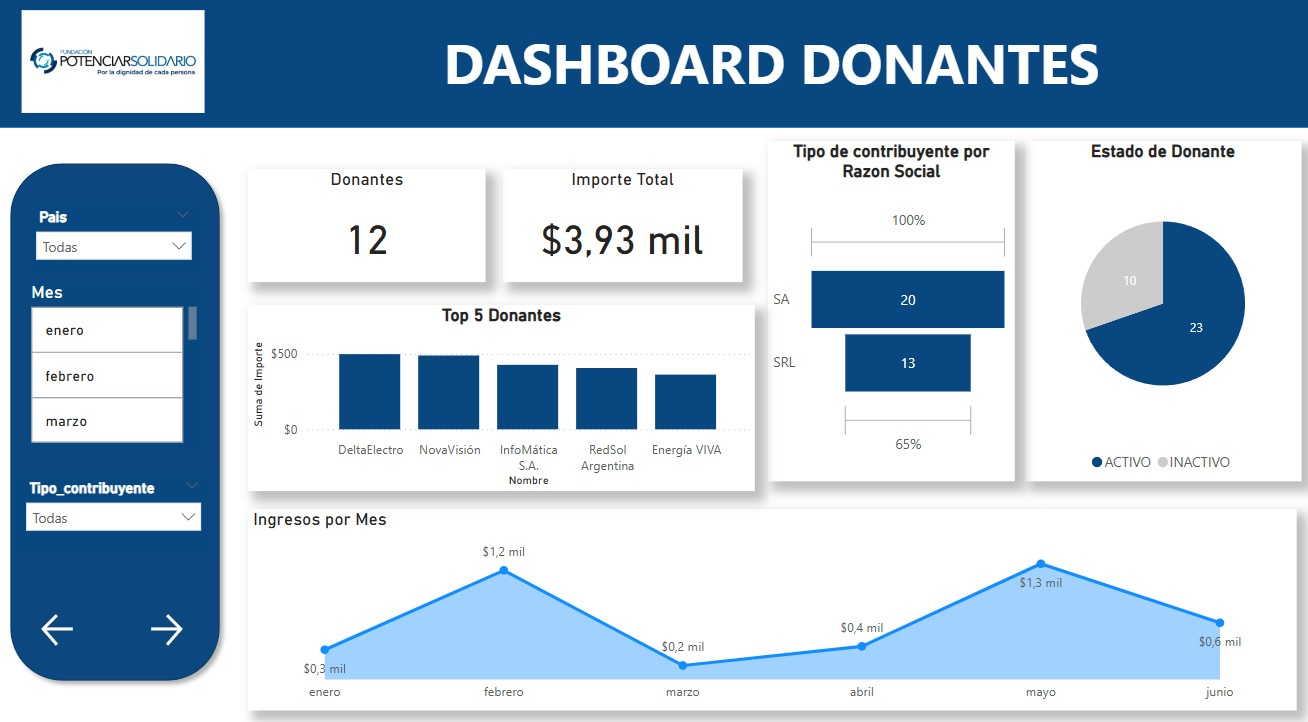

Layout of this report page (visuals, bound fields, positions):
{"tool":"powerbi","page":{"name":"Ingresos","canvas":[1280,720],"ordinal":1},"visuals":[{"type":"pieChart","title":"Estado de Donante","fields":{"Y":["fundacionbd donantes.Id_Estado"],"Category":["fundacionbd estadodonante.Estado_donante"]},"box":[998.6,141.4,268.6,331.4],"z":0},{"type":"cardVisual","title":"Importe Total","fields":{"Data":["fundacionbd ingreso.Importe"]},"box":[491.4,168.6,232.9,110],"z":1000},{"type":"cardVisual","title":"Donantes","fields":{"Data":["fundacionbd ingreso.Id_Donante"]},"box":[242.9,168.6,231.4,110],"z":2000},{"type":"funnel","title":"Tipo de contribuyente por Razon Social","fields":{"Y":["fundacionbd donantes.Id_Tipo_Contribuyente"],"Category":["fundacionbd razonsocial.Razon_social"]},"box":[748.6,141.4,240,331.4],"z":3000},{"type":"lineChart","title":"Ingresos por Mes","fields":{"Category":["Tabla Calendario.Date.Variación.Jerarquía de fechas.Mes"],"Y":["fundacionbd ingreso.Importe"]},"box":[242.9,498.6,1020,195.7],"z":4000},{"type":"shape","box":[0,0,1280,128.4],"z":7000},{"type":"shape","box":[2.9,153.7,221.8,521.3],"z":8000},{"type":"image","box":[2.9,8.8,218.8,109.9],"z":9000},{"type":"textbox","box":[237.3,22.4,1030,82.7],"z":10000},{"type":"slicer","fields":{"Values":["fundacionbd pais.Pais"]},"box":[27.4,201.1,171.4,70],"z":11000},{"type":"advancedSlicerVisual","fields":{"Values":["Tabla Calendario.Date.Variación.Jerarquía de fechas.Mes"]},"box":[27.4,278.2,171.4,161.4],"z":12000},{"type":"slicer","fields":{"Values":["fundacionbd tipocontribuyente.Tipo_contribuyente"]},"box":[17.4,465.3,190,75.7],"z":13000},{"type":"actionButton","box":[37.9,596.2,46.7,40.9],"z":14000},{"type":"actionButton","box":[143,596.2,55.4,40.9],"z":15000},{"type":"clusteredColumnChart","title":"Top 5 Donantes","fields":{"Category":["fundacionbd donantes.Nombre"],"Y":["fundacionbd ingreso.Importe"]},"box":[243.2,300.5,493.1,180.9],"z":16000}]}

Visuals, with their boxes in screenshot pixels (x1, y1, x2, y2), scaled from the page's 1280x720 canvas onto the 1308x722 screenshot:
"Estado de Donante" pieChart: locate(1020, 142, 1295, 474)
"Importe Total" cardVisual: locate(502, 169, 740, 279)
"Donantes" cardVisual: locate(248, 169, 485, 279)
"Tipo de contribuyente por Razon Social" funnel: locate(765, 142, 1010, 474)
"Ingresos por Mes" lineChart: locate(248, 500, 1291, 696)
shape: locate(0, 0, 1307, 129)
shape: locate(3, 154, 230, 677)
image: locate(3, 9, 227, 119)
textbox: locate(242, 22, 1295, 105)
slicer - fundacionbd pais.Pais: locate(28, 202, 203, 272)
advancedSlicerVisual - Tabla Calendario.Date.Variación.Jerarquía de fechas.Mes: locate(28, 279, 203, 441)
slicer - fundacionbd tipocontribuyente.Tipo_contribuyente: locate(18, 467, 212, 543)
actionButton: locate(39, 598, 86, 639)
actionButton: locate(146, 598, 203, 639)
"Top 5 Donantes" clusteredColumnChart: locate(249, 301, 752, 483)
